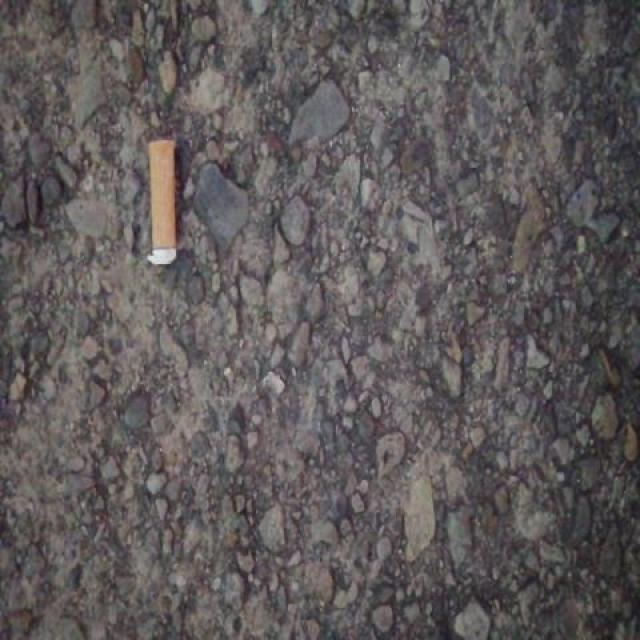non-organic waste: (143, 137, 181, 270)
